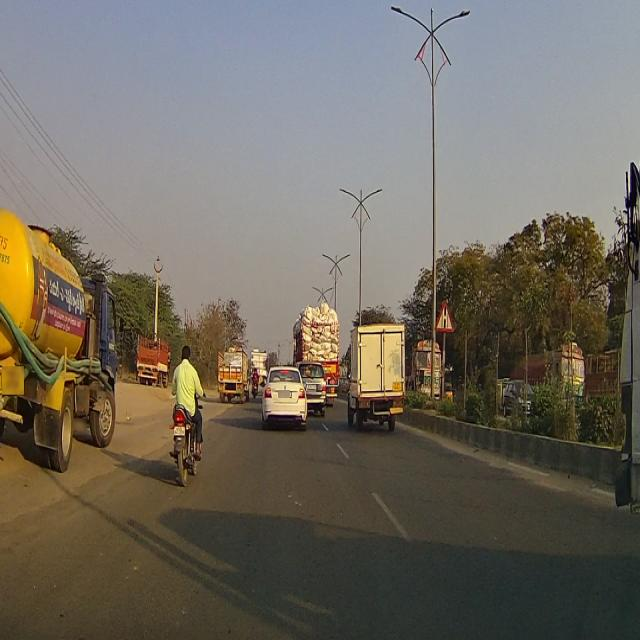gap-in-median: (436, 298, 453, 332)
